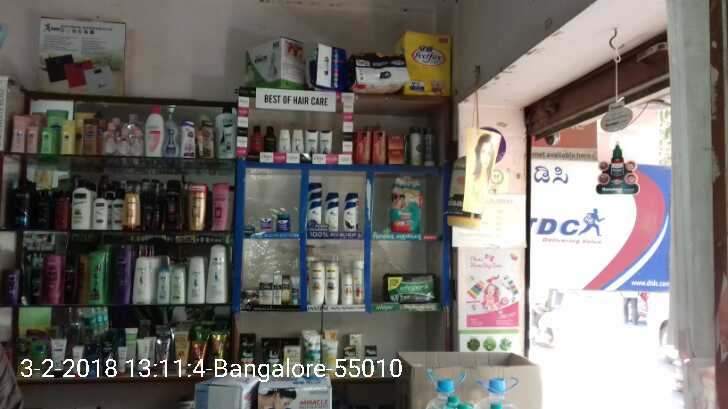beauty: (306, 260, 323, 305), (325, 259, 342, 302), (259, 268, 277, 303), (344, 198, 360, 230), (324, 203, 339, 231), (339, 276, 355, 301), (310, 199, 323, 229)
pharmacy: (388, 181, 424, 234), (384, 269, 435, 305), (274, 212, 290, 233)
